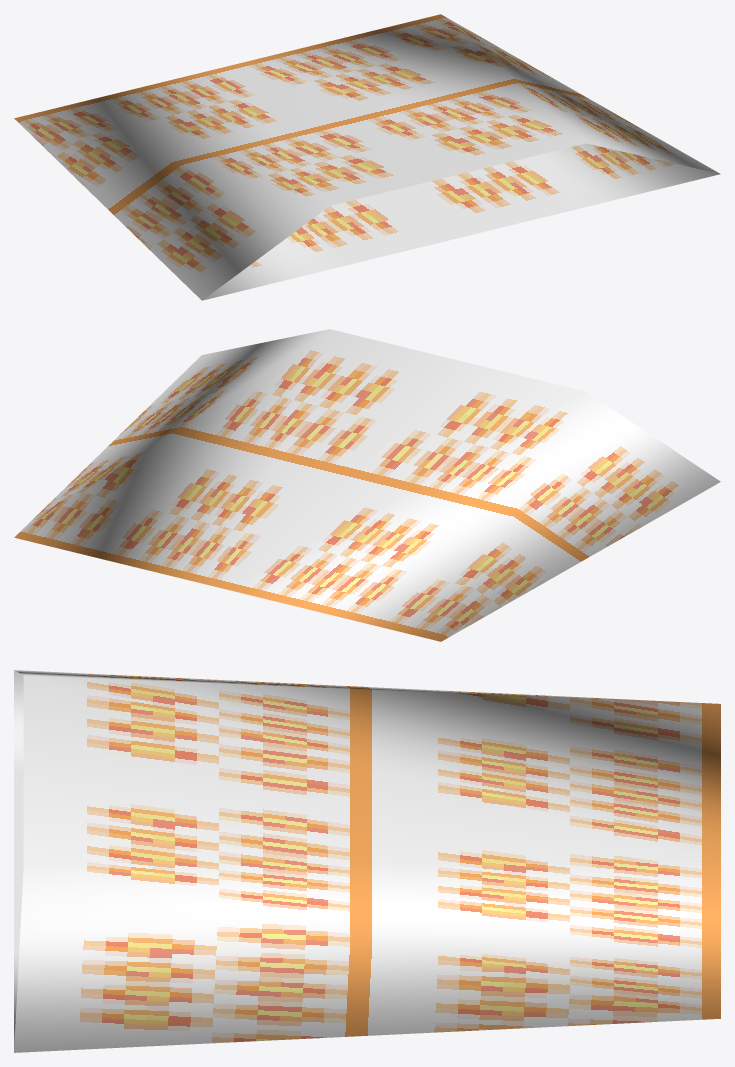
The model's file is 2269skirt00_c.gltf.
3 views of the same model, one above another, from view 1: azimuth 30°, elevation 25°; view 2: azimuth 150°, elevation 25°; view 3: azimuth 270°, elevation 25° (orthographic). The views are drawn at different scales.
Visible parts, largest first — view 1: 2269skirt00_c; view 2: 2269skirt00_c; view 3: 2269skirt00_c.
Part boxes in pixels (x1,y1,x2,y2): 2269skirt00_c: (14,14,720,300); 2269skirt00_c: (14,329,720,641); 2269skirt00_c: (14,670,720,1052).
Bounding box in the file's own units: 0.7896 × 0.0879 × 0.6162.
1 material, 1 textured.
